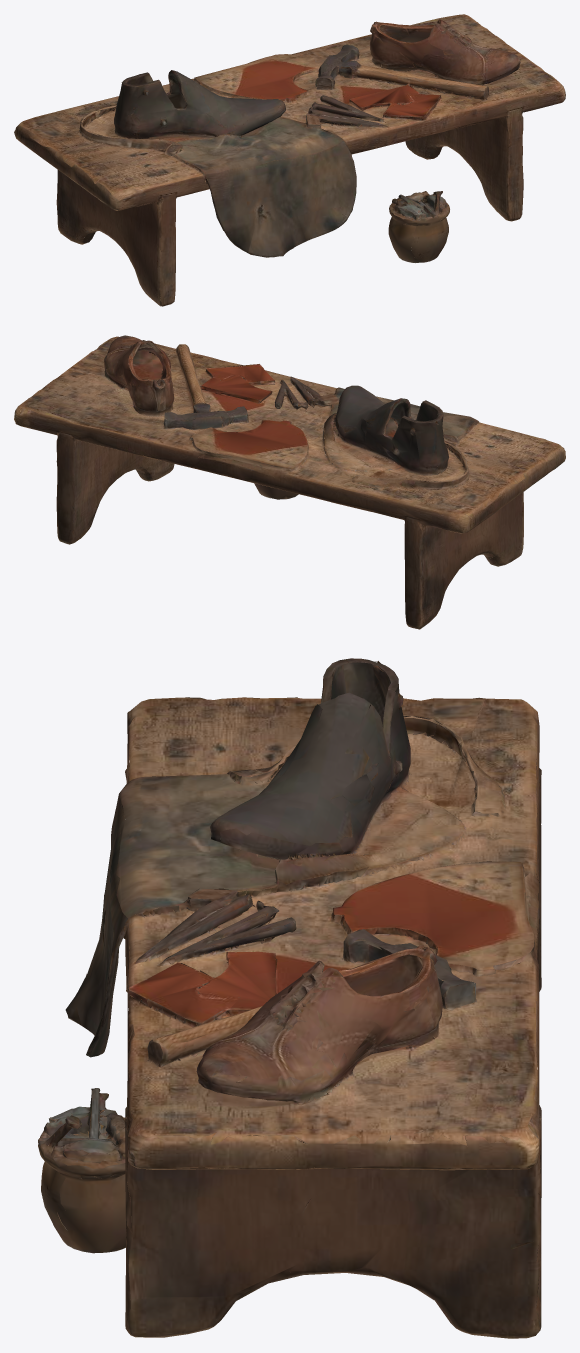
File: shoemaker-workbench-stock.glb
3 views of the same model, one above another, from view 1: azimuth 30°, elevation 25°; view 2: azimuth 150°, elevation 25°; view 3: azimuth 270°, elevation 25° (orthographic). The views are drawn at different scales.
Parts seen in each view (by area): view 1: Mesh_0; view 2: Mesh_0; view 3: Mesh_0.
Part boxes in pixels (x1,y1,x2,y2): Mesh_0: (14, 14, 565, 306); Mesh_0: (14, 335, 565, 629); Mesh_0: (38, 658, 541, 1338).
Size of the model in its own units: 1.9 by 0.7322 by 0.914.
Materials: 1 (1 with a texture image).
